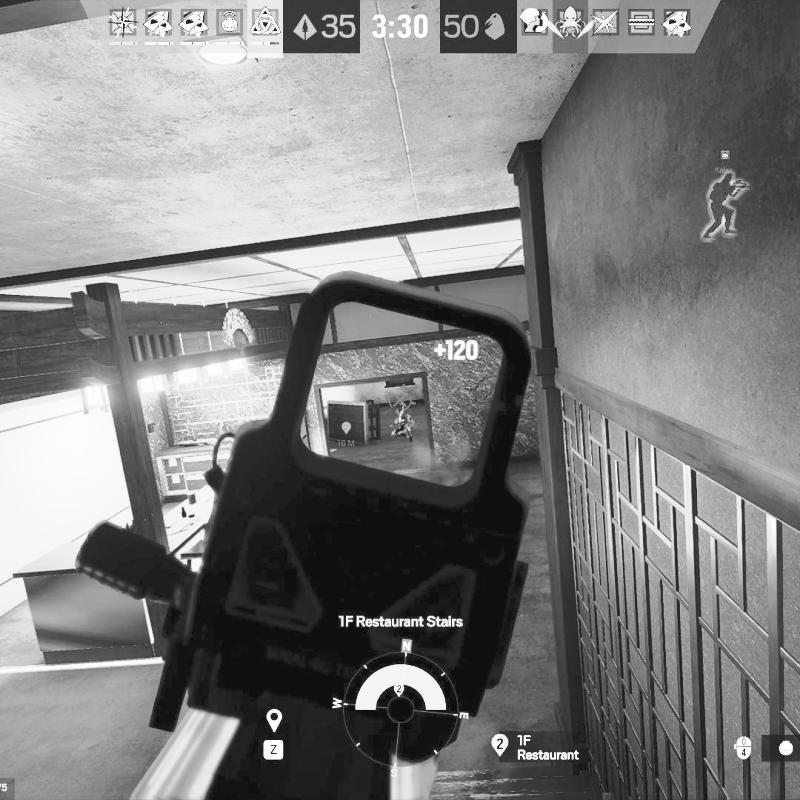Character: (391, 402, 413, 442)
Friend_label: (714, 148, 736, 174)
